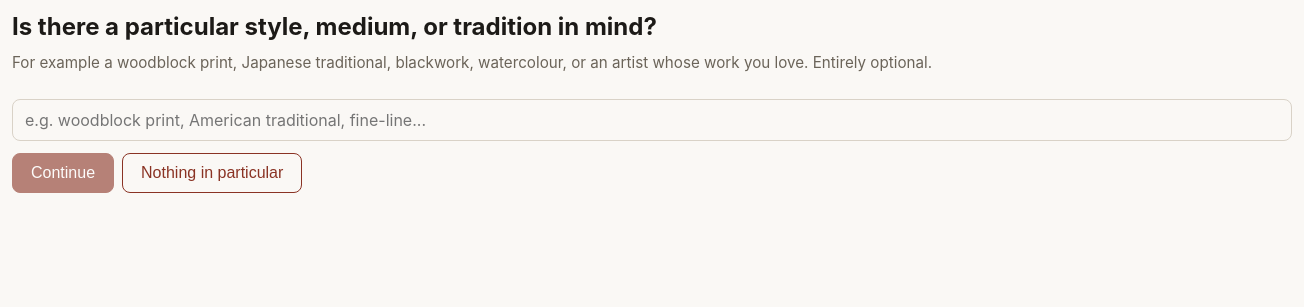
it: StyleReference -- third-party photo rights checkbox on the optional example photo › the example-photo file input is disabled until the rights checkbox is checked
This screenshot has width=1304, height=307.
Type "Japanese traditional" into the field with placeholder "e.g. woodblock print, American traditional, fine-line...". click: (652, 120)
box: [12,99,1292,141]
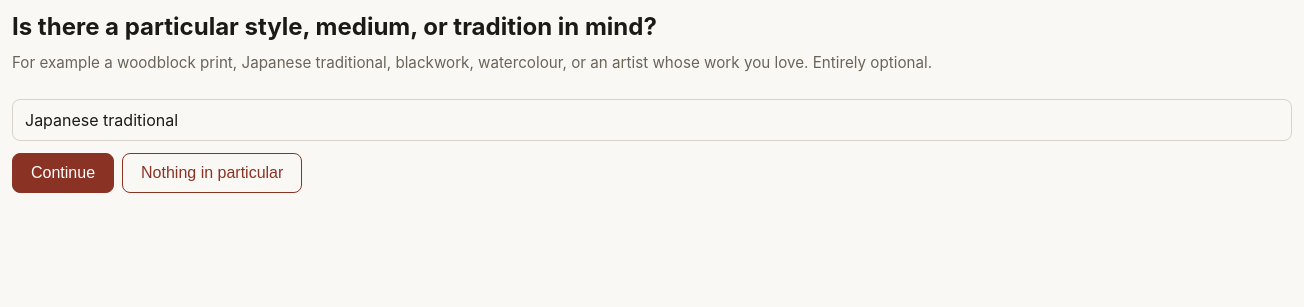
Click the button "Continue". click: (63, 173)
box: [12,153,114,193]
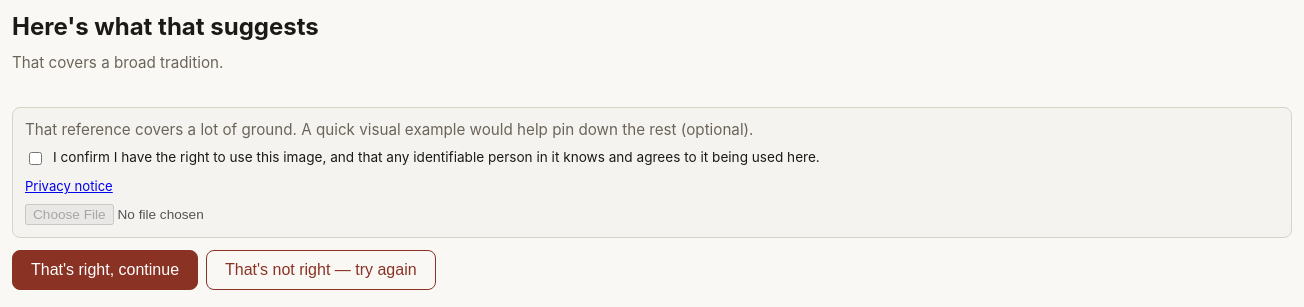
Expected: the text "That covers a broad tradition." is shown, [12,53,223,72]
Expected: the file field is disabled, [25,204,1279,225]
Click the checkbox labelled "I confirm I have the right to use this image". click: (36, 159)
box: [29,152,42,165]
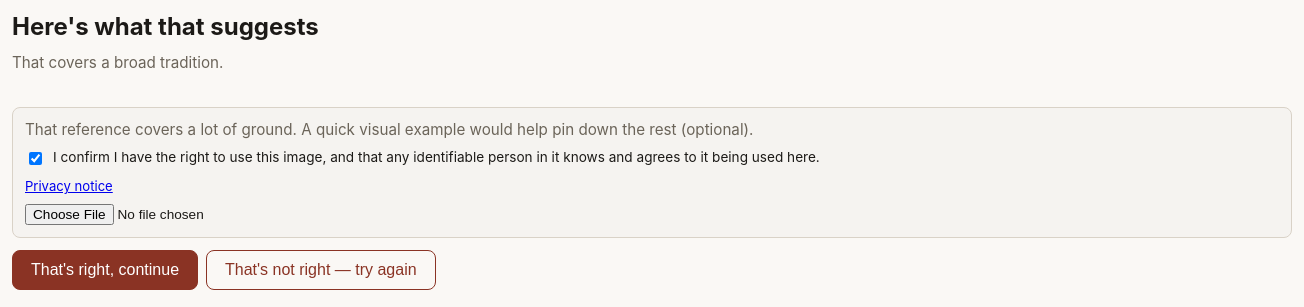
Expected: the file field is enabled, [25,204,1279,225]
